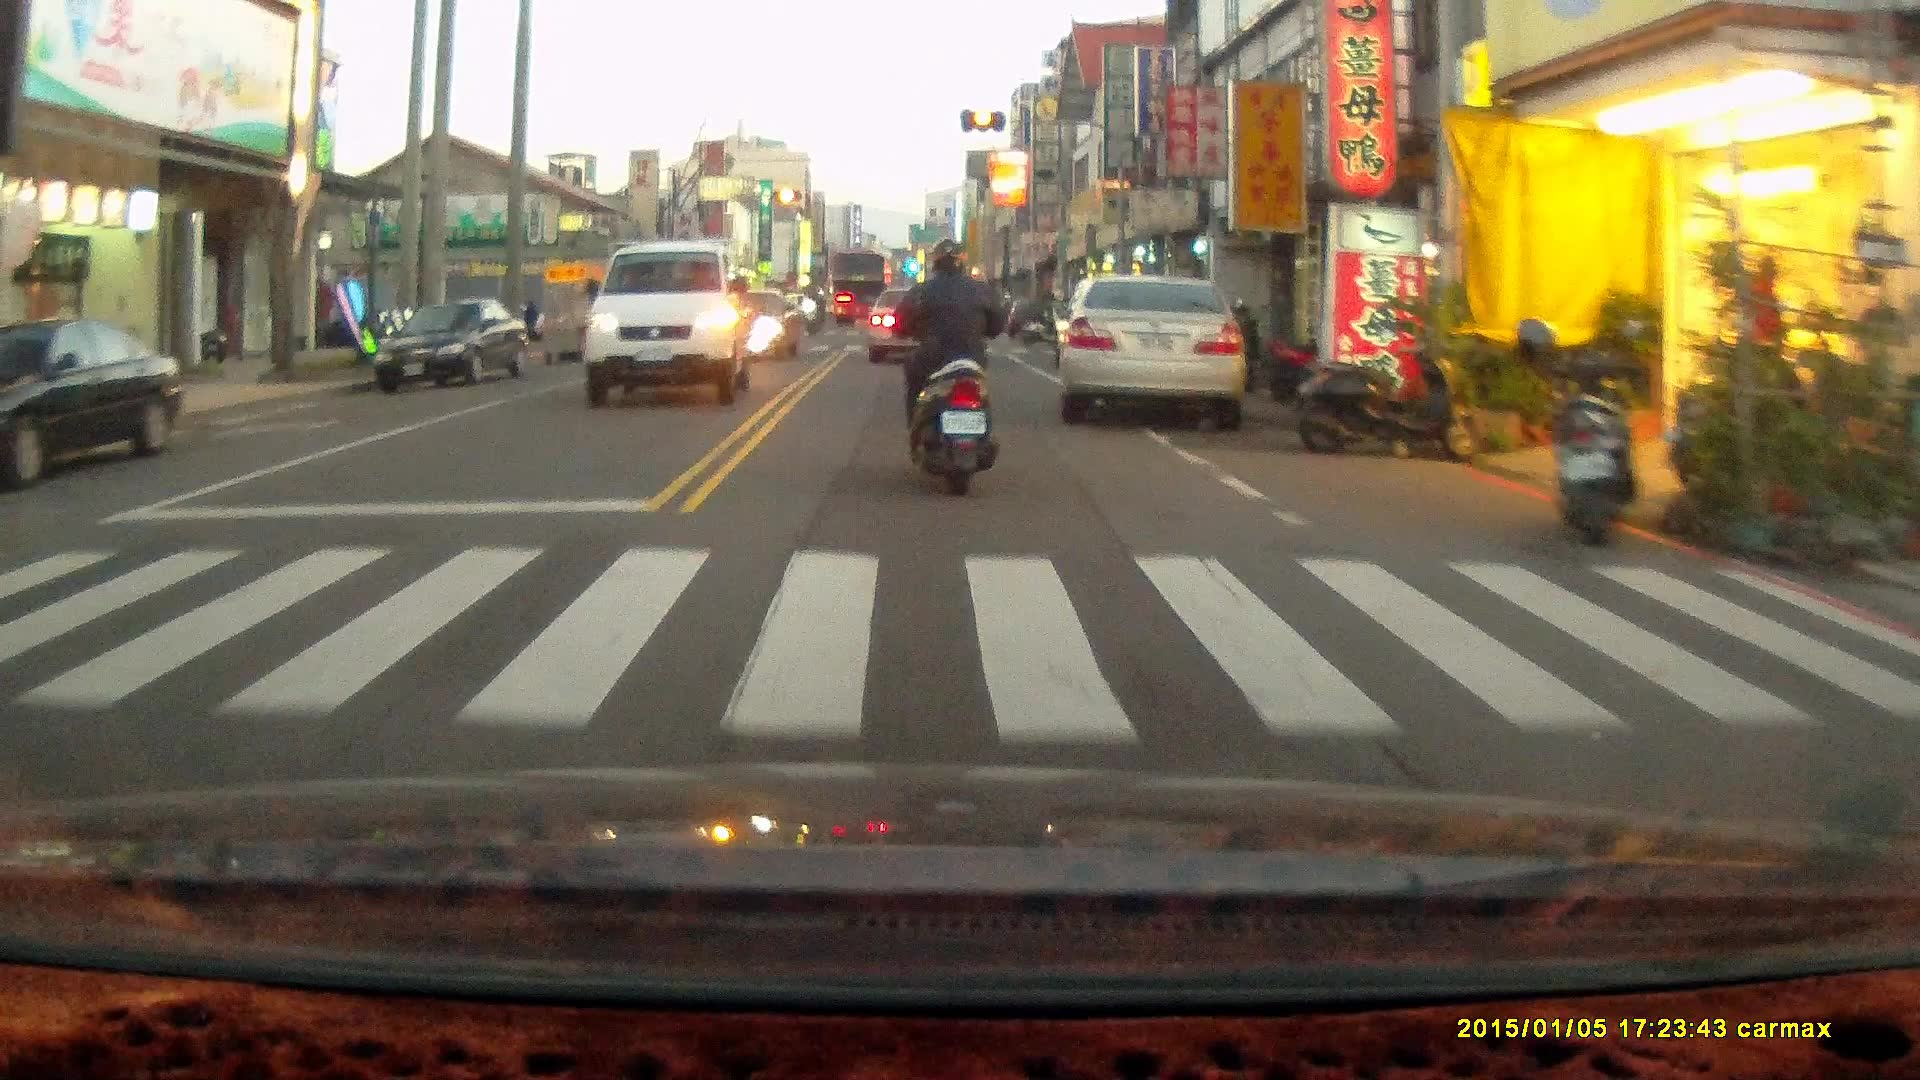pedestrian: (1744, 253, 1788, 401)
rider: (886, 237, 1008, 499)
vehicle: (1, 315, 186, 495), (585, 239, 748, 413), (1057, 272, 1248, 420), (373, 295, 527, 398), (862, 279, 962, 357)
